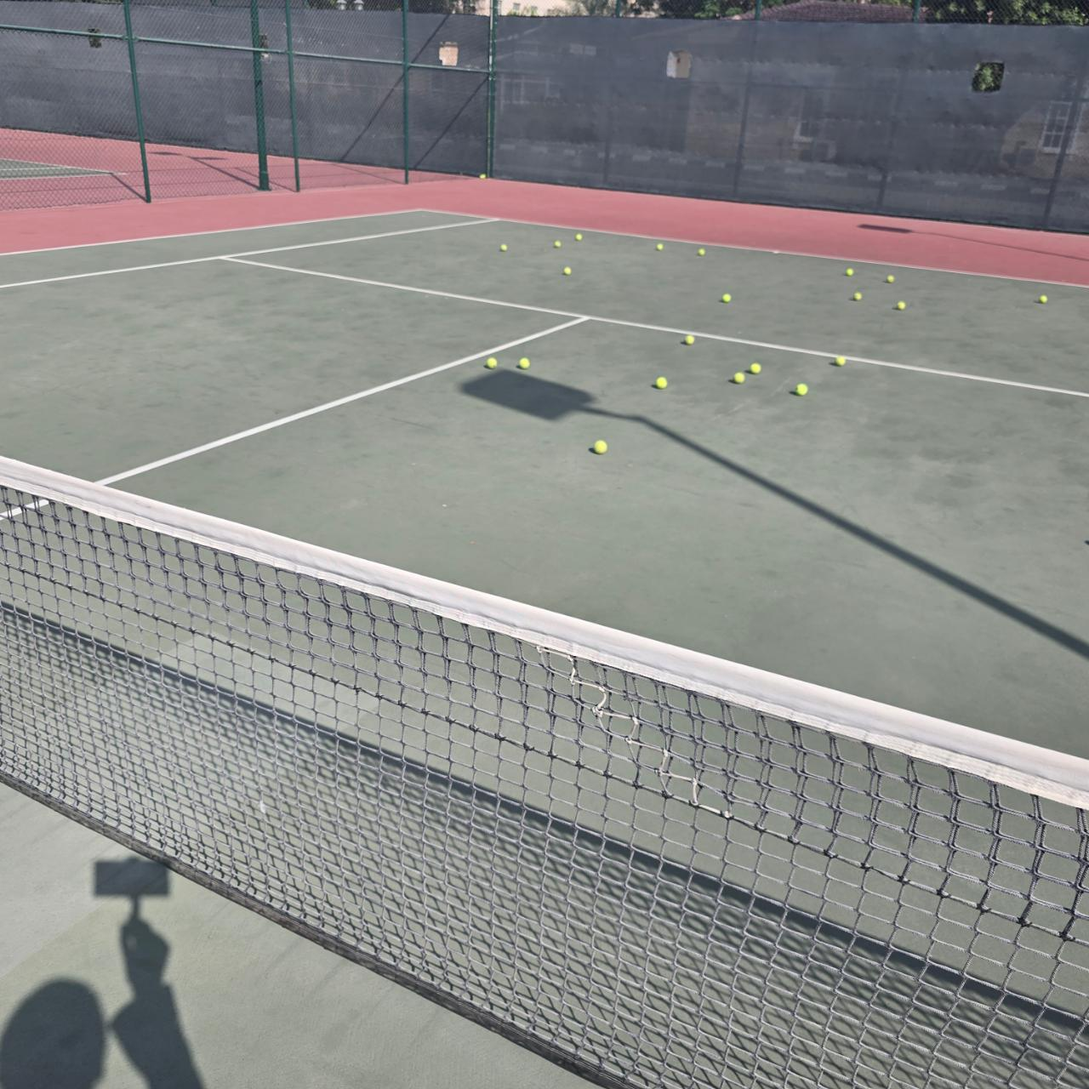tennis-ball: (591, 437, 607, 454), (653, 374, 668, 390), (795, 381, 808, 395), (748, 360, 761, 374), (516, 355, 529, 368), (732, 372, 745, 384), (487, 357, 499, 369), (561, 265, 572, 276), (684, 334, 695, 345), (721, 292, 732, 303), (835, 356, 846, 366), (896, 301, 905, 311), (1039, 294, 1048, 304), (845, 268, 854, 277), (854, 291, 862, 301), (887, 275, 895, 284), (697, 248, 706, 256), (655, 243, 664, 251), (575, 233, 583, 241), (554, 241, 562, 248), (500, 244, 507, 252), (480, 174, 486, 179)
